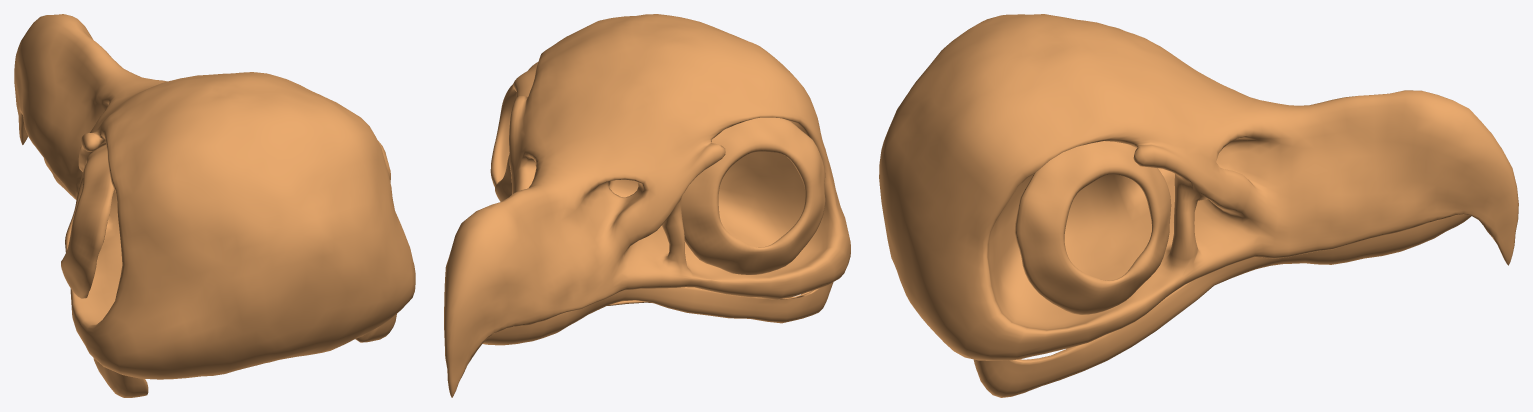
Rendered from eagle_skull_normal.glb.
The picture shows the model from 3 angles, left to right: view 1: azimuth 30°, elevation 25°; view 2: azimuth 150°, elevation 25°; view 3: azimuth 270°, elevation 25°; orthographic projection. The views are drawn at different scales.
Visible parts, largest first — view 1: eagle head state 0, eagle eye left, eagle jar; view 2: eagle head state 0, eagle eye left, eagle jar, eagle eye right; view 3: eagle head state 0, eagle eye right, eagle jar.
Boxes of the visible parts, x1,y1,x2,y2 form: eagle head state 0: [14, 14, 415, 379]; eagle eye left: [61, 144, 114, 298]; eagle jar: [44, 158, 396, 397]; eagle head state 0: [444, 14, 850, 397]; eagle eye left: [681, 117, 825, 274]; eagle jar: [482, 282, 833, 345]; eagle eye right: [490, 62, 537, 201]; eagle head state 0: [879, 14, 1518, 360]; eagle eye right: [1014, 141, 1171, 314]; eagle jar: [973, 214, 1471, 397].
Size of the model in its own units: 2.89 by 2.32 by 4.6.
